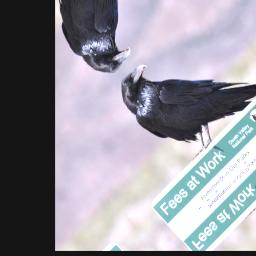Crow: (109, 6, 256, 182)
